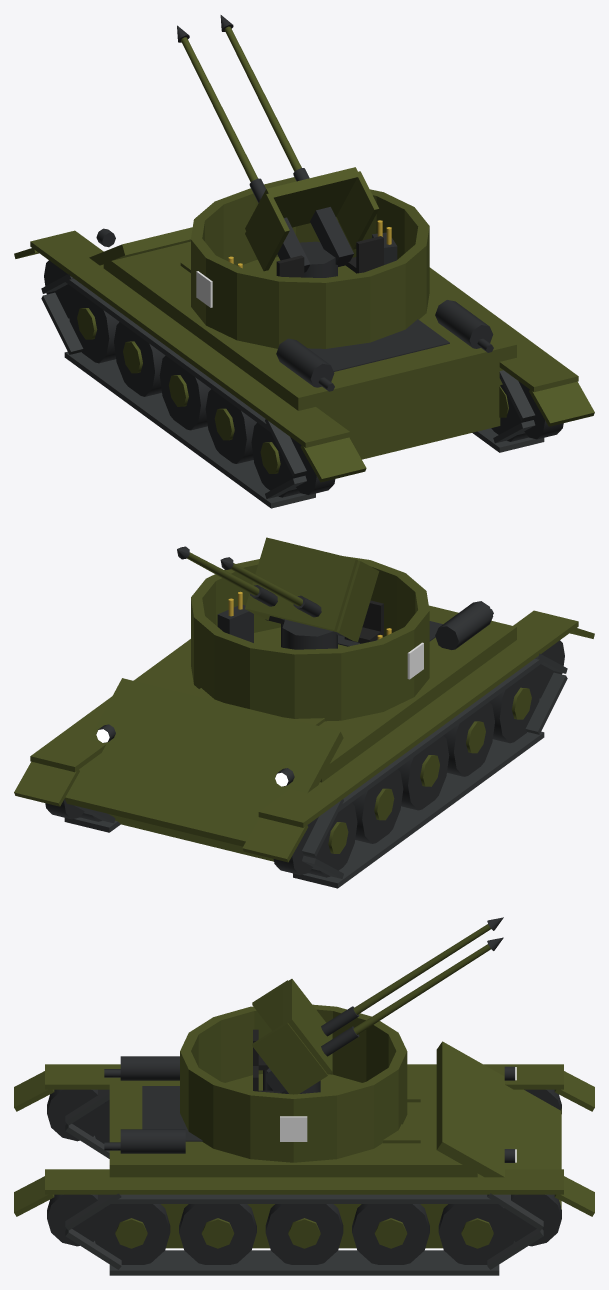
The model's file is m42-duster.glb.
3 views of the same model, one above another, from view 1: azimuth 30°, elevation 25°; view 2: azimuth 150°, elevation 25°; view 3: azimuth 270°, elevation 25° (orthographic). The views are drawn at different scales.
Visible parts, largest first — view 1: Mesh_TurretTub, Mesh_UpperHull, Mesh_FenderL, Mesh_LowerHull, Mesh_TrackBottomL, Mesh_FenderR, Mesh_ShieldFront, Mesh_GrilleCentral, Mesh_TrackTopL, Mesh_Wheel_L3, Mesh_Wheel_L2, Mesh_Wheel_L4 (+21 smaller); view 2: Mesh_Glacis, Mesh_TurretTub, Mesh_FenderL, Mesh_UpperHull, Mesh_ShieldFront, Mesh_TrackBottomL, Mesh_FenderR, Mesh_TrackTopL, Mesh_Wheel_L3, Mesh_Wheel_L2, Mesh_Wheel_L4, Mesh_Wheel_L1 (+21 smaller); view 3: Mesh_TurretTub, Mesh_UpperHull, Mesh_Glacis, Mesh_FenderR, Mesh_TrackBottomR, Mesh_TrackTopR, Mesh_Wheel_R3, Mesh_Wheel_R2, Mesh_Wheel_R4, Mesh_FenderL, Mesh_Wheel_R1, Mesh_Wheel_R5 (+32 smaller).
Boxes of the visible parts, x1,y1,x2,y2 form: Mesh_TurretTub: (191, 182, 429, 348); Mesh_UpperHull: (103, 241, 516, 423); Mesh_FenderL: (30, 230, 350, 447); Mesh_LowerHull: (340, 385, 500, 459); Mesh_TrackBottomL: (64, 351, 315, 508); Mesh_FenderR: (264, 177, 578, 392); Mesh_ShieldFront: (245, 167, 360, 230); Mesh_GrilleCentral: (308, 319, 449, 371); Mesh_TrackTopL: (64, 277, 270, 432); Mesh_Wheel_L3: (159, 355, 210, 430); Mesh_Wheel_L2: (205, 389, 256, 463); Mesh_Wheel_L4: (114, 322, 165, 396); Mesh_Glacis: (64, 678, 343, 846); Mesh_TurretTub: (191, 556, 429, 721); Mesh_FenderL: (258, 610, 578, 827); Mesh_UpperHull: (147, 605, 516, 782); Mesh_ShieldFront: (245, 537, 357, 631); Mesh_TrackBottomL: (293, 731, 544, 888); Mesh_FenderR: (30, 639, 190, 772); Mesh_TrackTopL: (338, 657, 544, 811); Mesh_Wheel_L3: (398, 735, 449, 810); Mesh_Wheel_L2: (443, 702, 494, 776); Mesh_Wheel_L4: (352, 769, 403, 843); Mesh_Wheel_L1: (489, 668, 540, 743); Mesh_TurretTub: (180, 1004, 407, 1162); Mesh_UpperHull: (109, 1064, 477, 1177); Mesh_Glacis: (436, 1041, 561, 1209); Mesh_FenderR: (45, 1169, 563, 1194); Mesh_TrackBottomR: (109, 1250, 499, 1275); Mesh_TrackTopR: (109, 1194, 499, 1203); Mesh_Wheel_R3: (265, 1204, 343, 1264); Mesh_Wheel_R2: (179, 1204, 256, 1264); Mesh_Wheel_R4: (352, 1204, 429, 1264); Mesh_FenderL: (45, 1064, 563, 1089); Mesh_Wheel_R1: (92, 1204, 170, 1264); Mesh_Wheel_R5: (438, 1204, 516, 1264).
Size of the model in its own units: 2.75 by 2.91 by 5.37.
